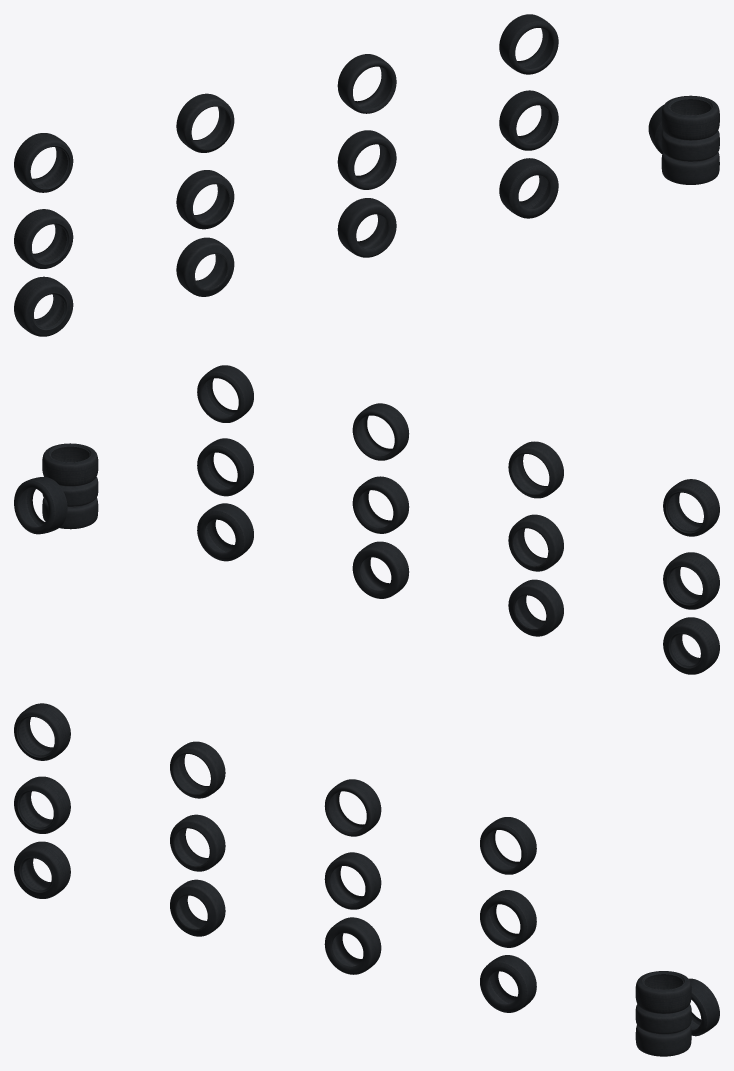
Rendered from tire-model.fbx.
3 views of the same model, one above another, from view 1: azimuth 30°, elevation 25°; view 2: azimuth 150°, elevation 25°; view 3: azimuth 330°, elevation 25° (orthographic). The views are drawn at different scales.
Parts seen in each view (by area): view 1: Tire_Max_Kumho_Ecsta_PS91_Large, Tire_Max_Nankang_AllTerrain_FT7_Large, Tire_Max_Toyo_Proxes_TQ_Large, M_Tire_Max_Toyo_Proxes_R888R_Large, Tire_Max_Kumho_Ecsta_PS91_Medium.001, Tire_Max_Kumho_Ecsta_PS91_Medium, Tire_Max_Nankang_AllTerrain_FT7_Medium.001, Tire_Max_Kumho_Ecsta_PS91_Small, Tire_Max_Toyo_Proxes_TQ_Medium.001, M_Tire_Max_Toyo_Proxes_R888R_Medium.001, Tire_Max_Nankang_AllTerrain_FT7_Small, Tire_Max_Toyo_Proxes_TQ_Small (+3 smaller); view 2: Tire_Max_Kumho_Ecsta_PS91_Large, Tire_Max_Nankang_AllTerrain_FT7_Large, Tire_Max_Toyo_Proxes_TQ_Large, M_Tire_Max_Toyo_Proxes_R888R_Large, Tire_Max_Nankang_AllTerrain_FT7_Medium, Tire_Max_Kumho_Ecsta_PS91_Medium.001, Tire_Max_Nankang_AllTerrain_FT7_Medium.001, Tire_Max_Kumho_Ecsta_PS91_Small, Tire_Max_Kumho_Ecsta_PS91_Medium, Tire_Max_Toyo_Proxes_TQ_Medium.001, M_Tire_Max_Toyo_Proxes_R888R_Medium.001, Tire_Max_Nankang_AllTerrain_FT7_Small (+4 smaller); view 3: Tire_Max_Kumho_Ecsta_PS91_Large, Tire_Max_Nankang_AllTerrain_FT7_Large, Tire_Max_Toyo_Proxes_TQ_Large, M_Tire_Max_Toyo_Proxes_R888R_Large, Tire_Max_Kumho_Ecsta_PS91_Medium.001, Tire_Max_Kumho_Ecsta_PS91_Medium, Tire_Max_Nankang_AllTerrain_FT7_Medium.001, Tire_Max_Kumho_Ecsta_PS91_Small, Tire_Max_Toyo_Proxes_TQ_Medium.001, M_Tire_Max_Toyo_Proxes_R888R_Medium.001, Tire_Max_Nankang_AllTerrain_FT7_Small, Tire_Max_Toyo_Proxes_TQ_Small (+4 smaller).
Part boxes in pixels (left/top/right/bottom): Tire_Max_Kumho_Ecsta_PS91_Large: left=14, top=276, right=73, bottom=336; Tire_Max_Nankang_AllTerrain_FT7_Large: left=499, top=158, right=558, bottom=218; Tire_Max_Toyo_Proxes_TQ_Large: left=337, top=198, right=396, bottom=257; M_Tire_Max_Toyo_Proxes_R888R_Large: left=176, top=237, right=234, bottom=296; Tire_Max_Kumho_Ecsta_PS91_Medium.001: left=14, top=209, right=73, bottom=268; Tire_Max_Kumho_Ecsta_PS91_Medium: left=661, top=95, right=719, bottom=140; Tire_Max_Nankang_AllTerrain_FT7_Medium.001: left=499, top=90, right=558, bottom=150; Tire_Max_Kumho_Ecsta_PS91_Small: left=14, top=133, right=73, bottom=192; Tire_Max_Toyo_Proxes_TQ_Medium.001: left=337, top=130, right=396, bottom=189; M_Tire_Max_Toyo_Proxes_R888R_Medium.001: left=176, top=170, right=234, bottom=229; Tire_Max_Nankang_AllTerrain_FT7_Small: left=499, top=14, right=558, bottom=74; Tire_Max_Toyo_Proxes_TQ_Small: left=337, top=54, right=396, bottom=113; Tire_Max_Kumho_Ecsta_PS91_Large: left=663, top=617, right=719, bottom=674; Tire_Max_Nankang_AllTerrain_FT7_Large: left=197, top=503, right=253, bottom=561; Tire_Max_Toyo_Proxes_TQ_Large: left=352, top=541, right=409, bottom=598; M_Tire_Max_Toyo_Proxes_R888R_Large: left=508, top=579, right=563, bottom=636; Tire_Max_Nankang_AllTerrain_FT7_Medium: left=14, top=477, right=67, bottom=534; Tire_Max_Kumho_Ecsta_PS91_Medium.001: left=663, top=552, right=719, bottom=609; Tire_Max_Nankang_AllTerrain_FT7_Medium.001: left=197, top=438, right=253, bottom=496; Tire_Max_Kumho_Ecsta_PS91_Small: left=663, top=479, right=719, bottom=536; Tire_Max_Kumho_Ecsta_PS91_Medium: left=42, top=443, right=98, bottom=486; Tire_Max_Toyo_Proxes_TQ_Medium.001: left=352, top=476, right=409, bottom=533; M_Tire_Max_Toyo_Proxes_R888R_Medium.001: left=508, top=514, right=563, bottom=571; Tire_Max_Nankang_AllTerrain_FT7_Small: left=197, top=365, right=253, bottom=422; Tire_Max_Kumho_Ecsta_PS91_Large: left=14, top=841, right=70, bottom=898; Tire_Max_Nankang_AllTerrain_FT7_Large: left=480, top=955, right=536, bottom=1012; Tire_Max_Toyo_Proxes_TQ_Large: left=324, top=917, right=381, bottom=974; M_Tire_Max_Toyo_Proxes_R888R_Large: left=170, top=879, right=225, bottom=936; Tire_Max_Kumho_Ecsta_PS91_Medium.001: left=14, top=776, right=70, bottom=833; Tire_Max_Kumho_Ecsta_PS91_Medium: left=635, top=971, right=691, bottom=1013; Tire_Max_Nankang_AllTerrain_FT7_Medium.001: left=480, top=890, right=536, bottom=947; Tire_Max_Kumho_Ecsta_PS91_Small: left=14, top=703, right=70, bottom=760; Tire_Max_Toyo_Proxes_TQ_Medium.001: left=324, top=852, right=381, bottom=909; M_Tire_Max_Toyo_Proxes_R888R_Medium.001: left=170, top=814, right=225, bottom=871; Tire_Max_Nankang_AllTerrain_FT7_Small: left=480, top=817, right=536, bottom=874; Tire_Max_Toyo_Proxes_TQ_Small: left=324, top=779, right=381, bottom=836.
Size of the model in its own units: 875 by 233 by 96.31.
16 materials, 16 textured.
